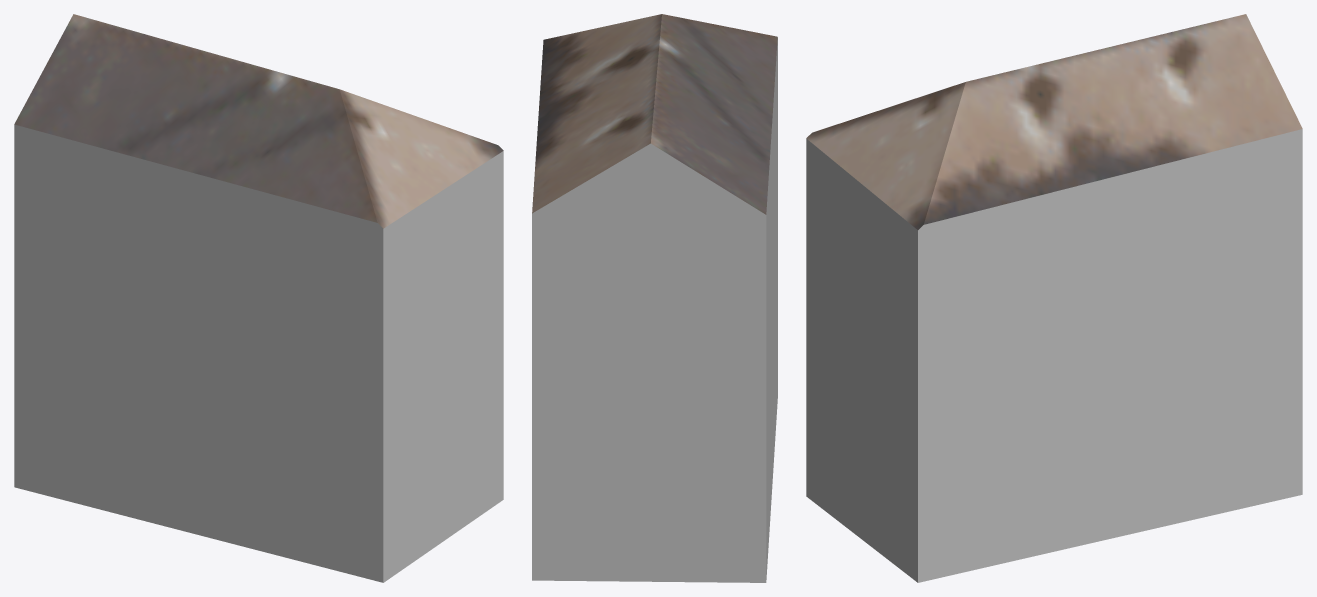
File: DEBW_0010007Tx6L.gltf
The picture shows the model from 3 angles, left to right: view 1: azimuth 30°, elevation 25°; view 2: azimuth 150°, elevation 25°; view 3: azimuth 270°, elevation 25°; orthographic projection.
Parts seen in each view (by area): view 1: Z_UP; view 2: Z_UP; view 3: Z_UP.
Part boxes in pixels (x1,y1,x2,y2): Z_UP: (14,14,503,582); Z_UP: (532,14,777,582); Z_UP: (806,14,1302,582).
Bounding box in the file's own units: 17.28 × 20.13 × 20.74.
2 materials, 1 textured.
